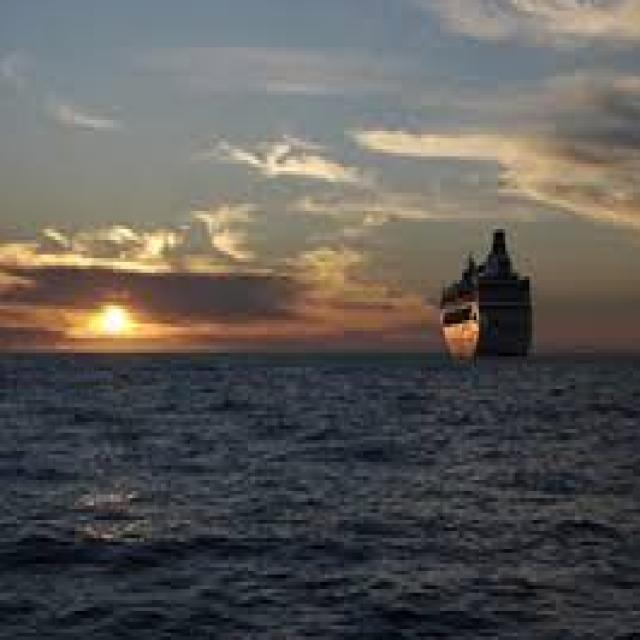passenger ship: (422, 204, 543, 360)
